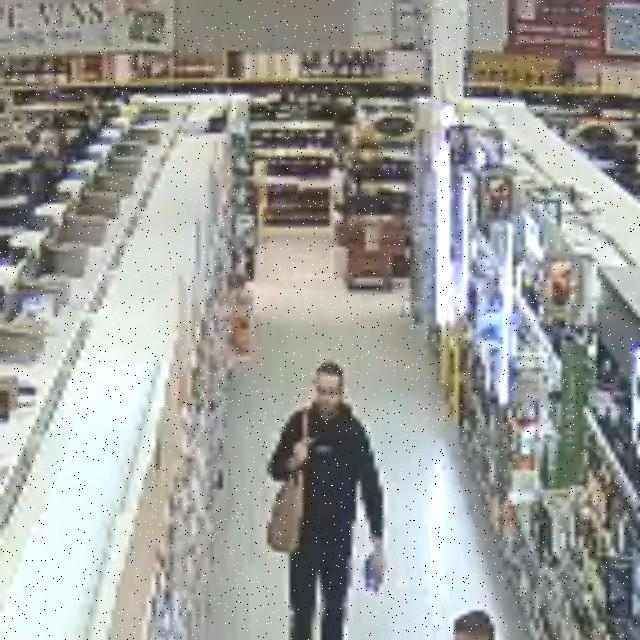article: (365, 556, 384, 596)
bags: (267, 472, 304, 553)
hands: (290, 438, 312, 470), (371, 541, 385, 584)
person: (269, 362, 384, 639)
